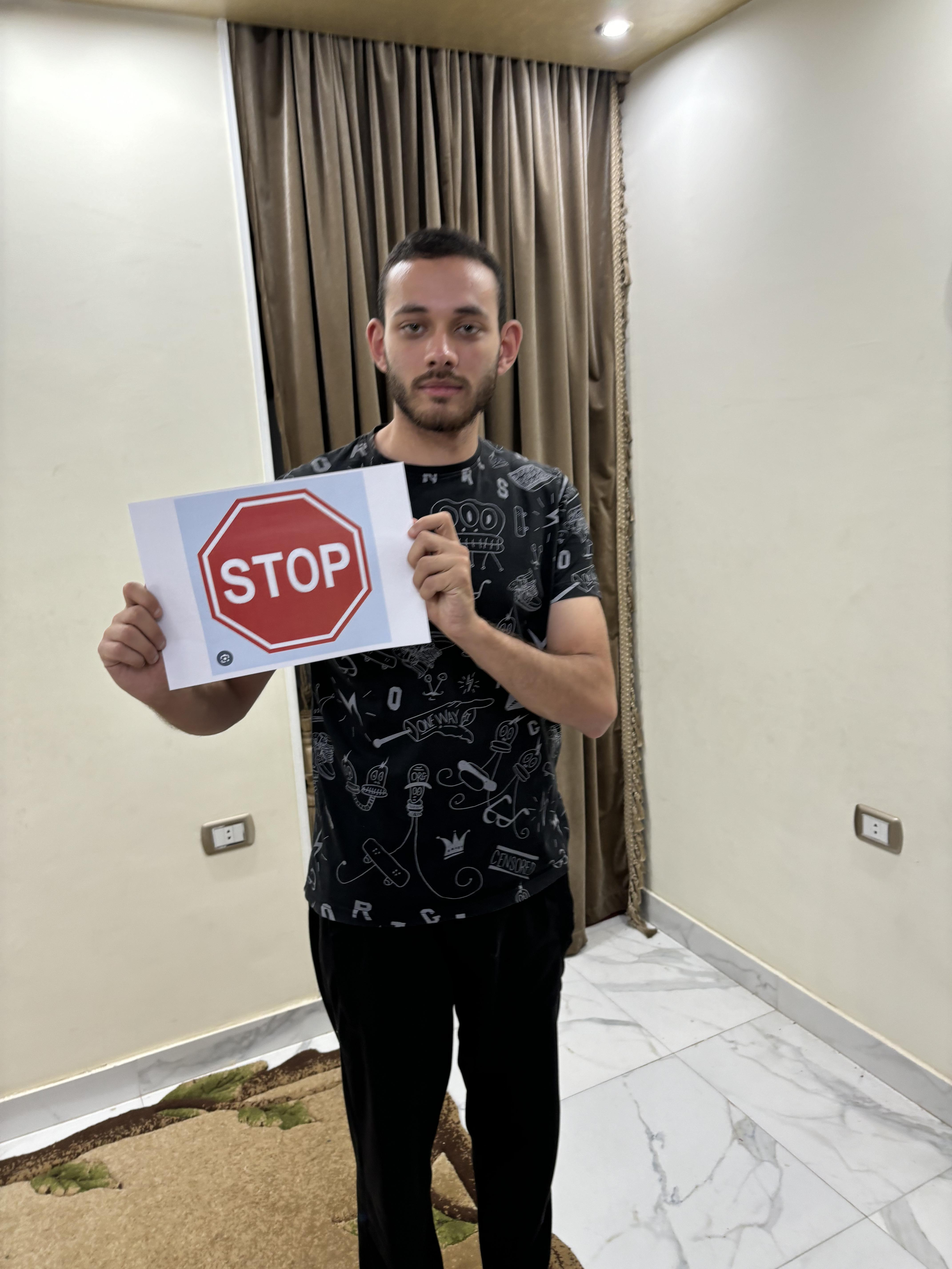Stop: (201, 489, 377, 655)
